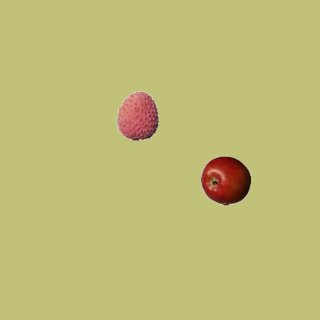Apple Braeburn: (200, 155, 250, 205)
Lychee: (112, 90, 162, 140)
